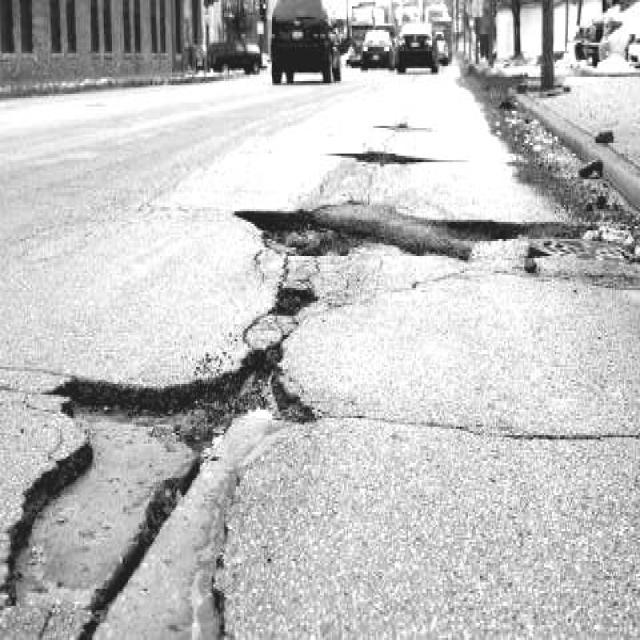pothole: (1, 339, 323, 638), (354, 204, 526, 259), (231, 203, 352, 260), (265, 281, 320, 318), (337, 147, 424, 164)
